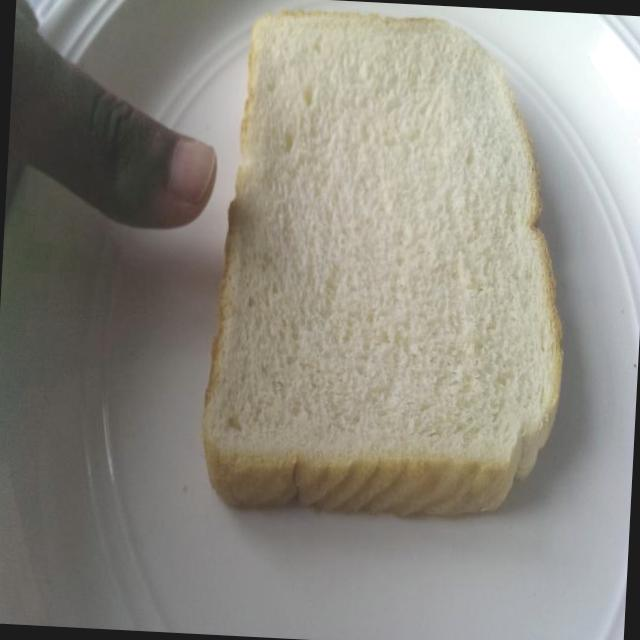Bread: (199, 4, 586, 536)
Finger: (65, 57, 229, 251)
